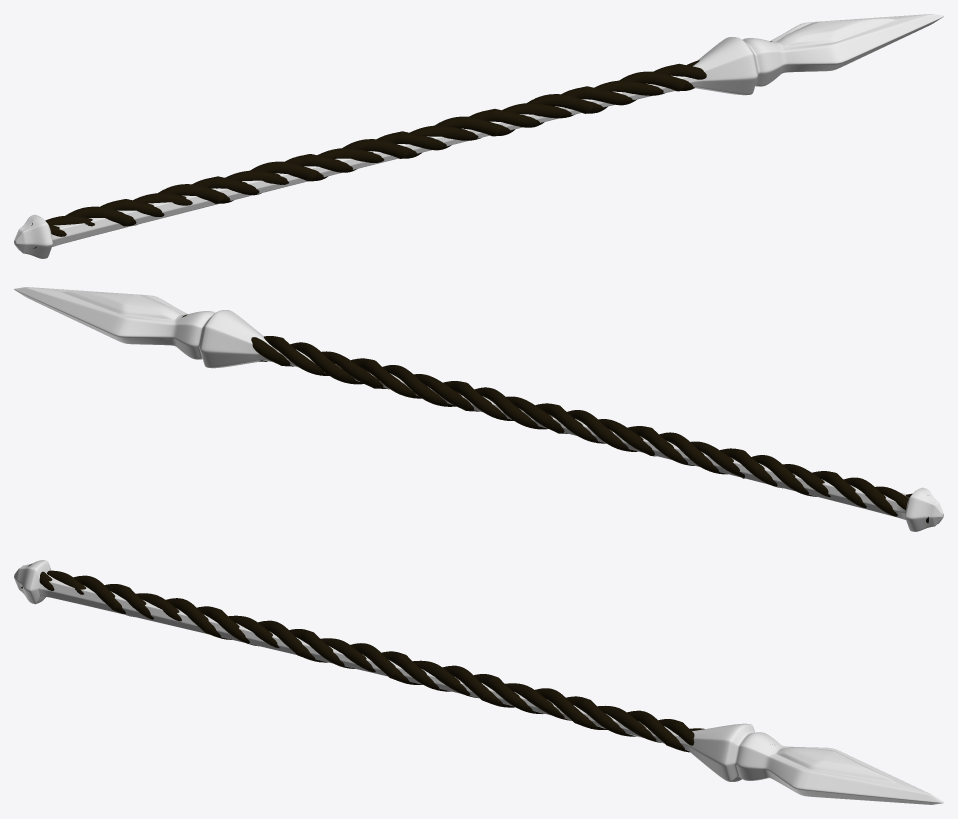
File: Roped_Spear.fbx
3 renders of one model, top to bottom at view 1: azimuth 30°, elevation 25°; view 2: azimuth 150°, elevation 25°; view 3: azimuth 330°, elevation 25°, orthographic.
Visible parts, largest first — view 1: Cylinder, Circle; view 2: Circle, Cylinder; view 3: Cylinder, Circle.
Part boxes in pixels (x1=…): Cylinder: x1=14, y1=14, x2=943, y2=258; Circle: x1=31, y1=41, x2=771, y2=248; Circle: x1=182, y1=314, x2=928, y2=523; Cylinder: x1=14, y1=287, x2=943, y2=531; Cylinder: x1=14, y1=560, x2=943, y2=804; Circle: x1=21, y1=564, x2=704, y2=752.
Size of the model in its own units: 463 by 25.34 by 37.96.
